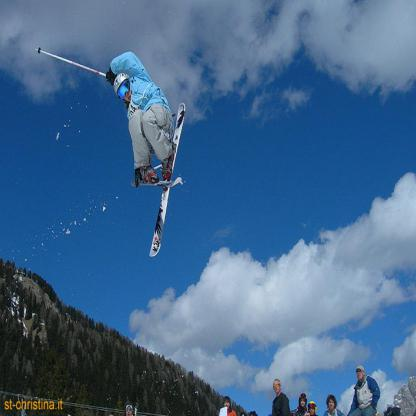face: (117, 82, 133, 103), (357, 370, 364, 381), (274, 383, 281, 393), (330, 399, 336, 410), (225, 399, 230, 410), (127, 407, 133, 416), (311, 406, 316, 415), (302, 397, 307, 406)
